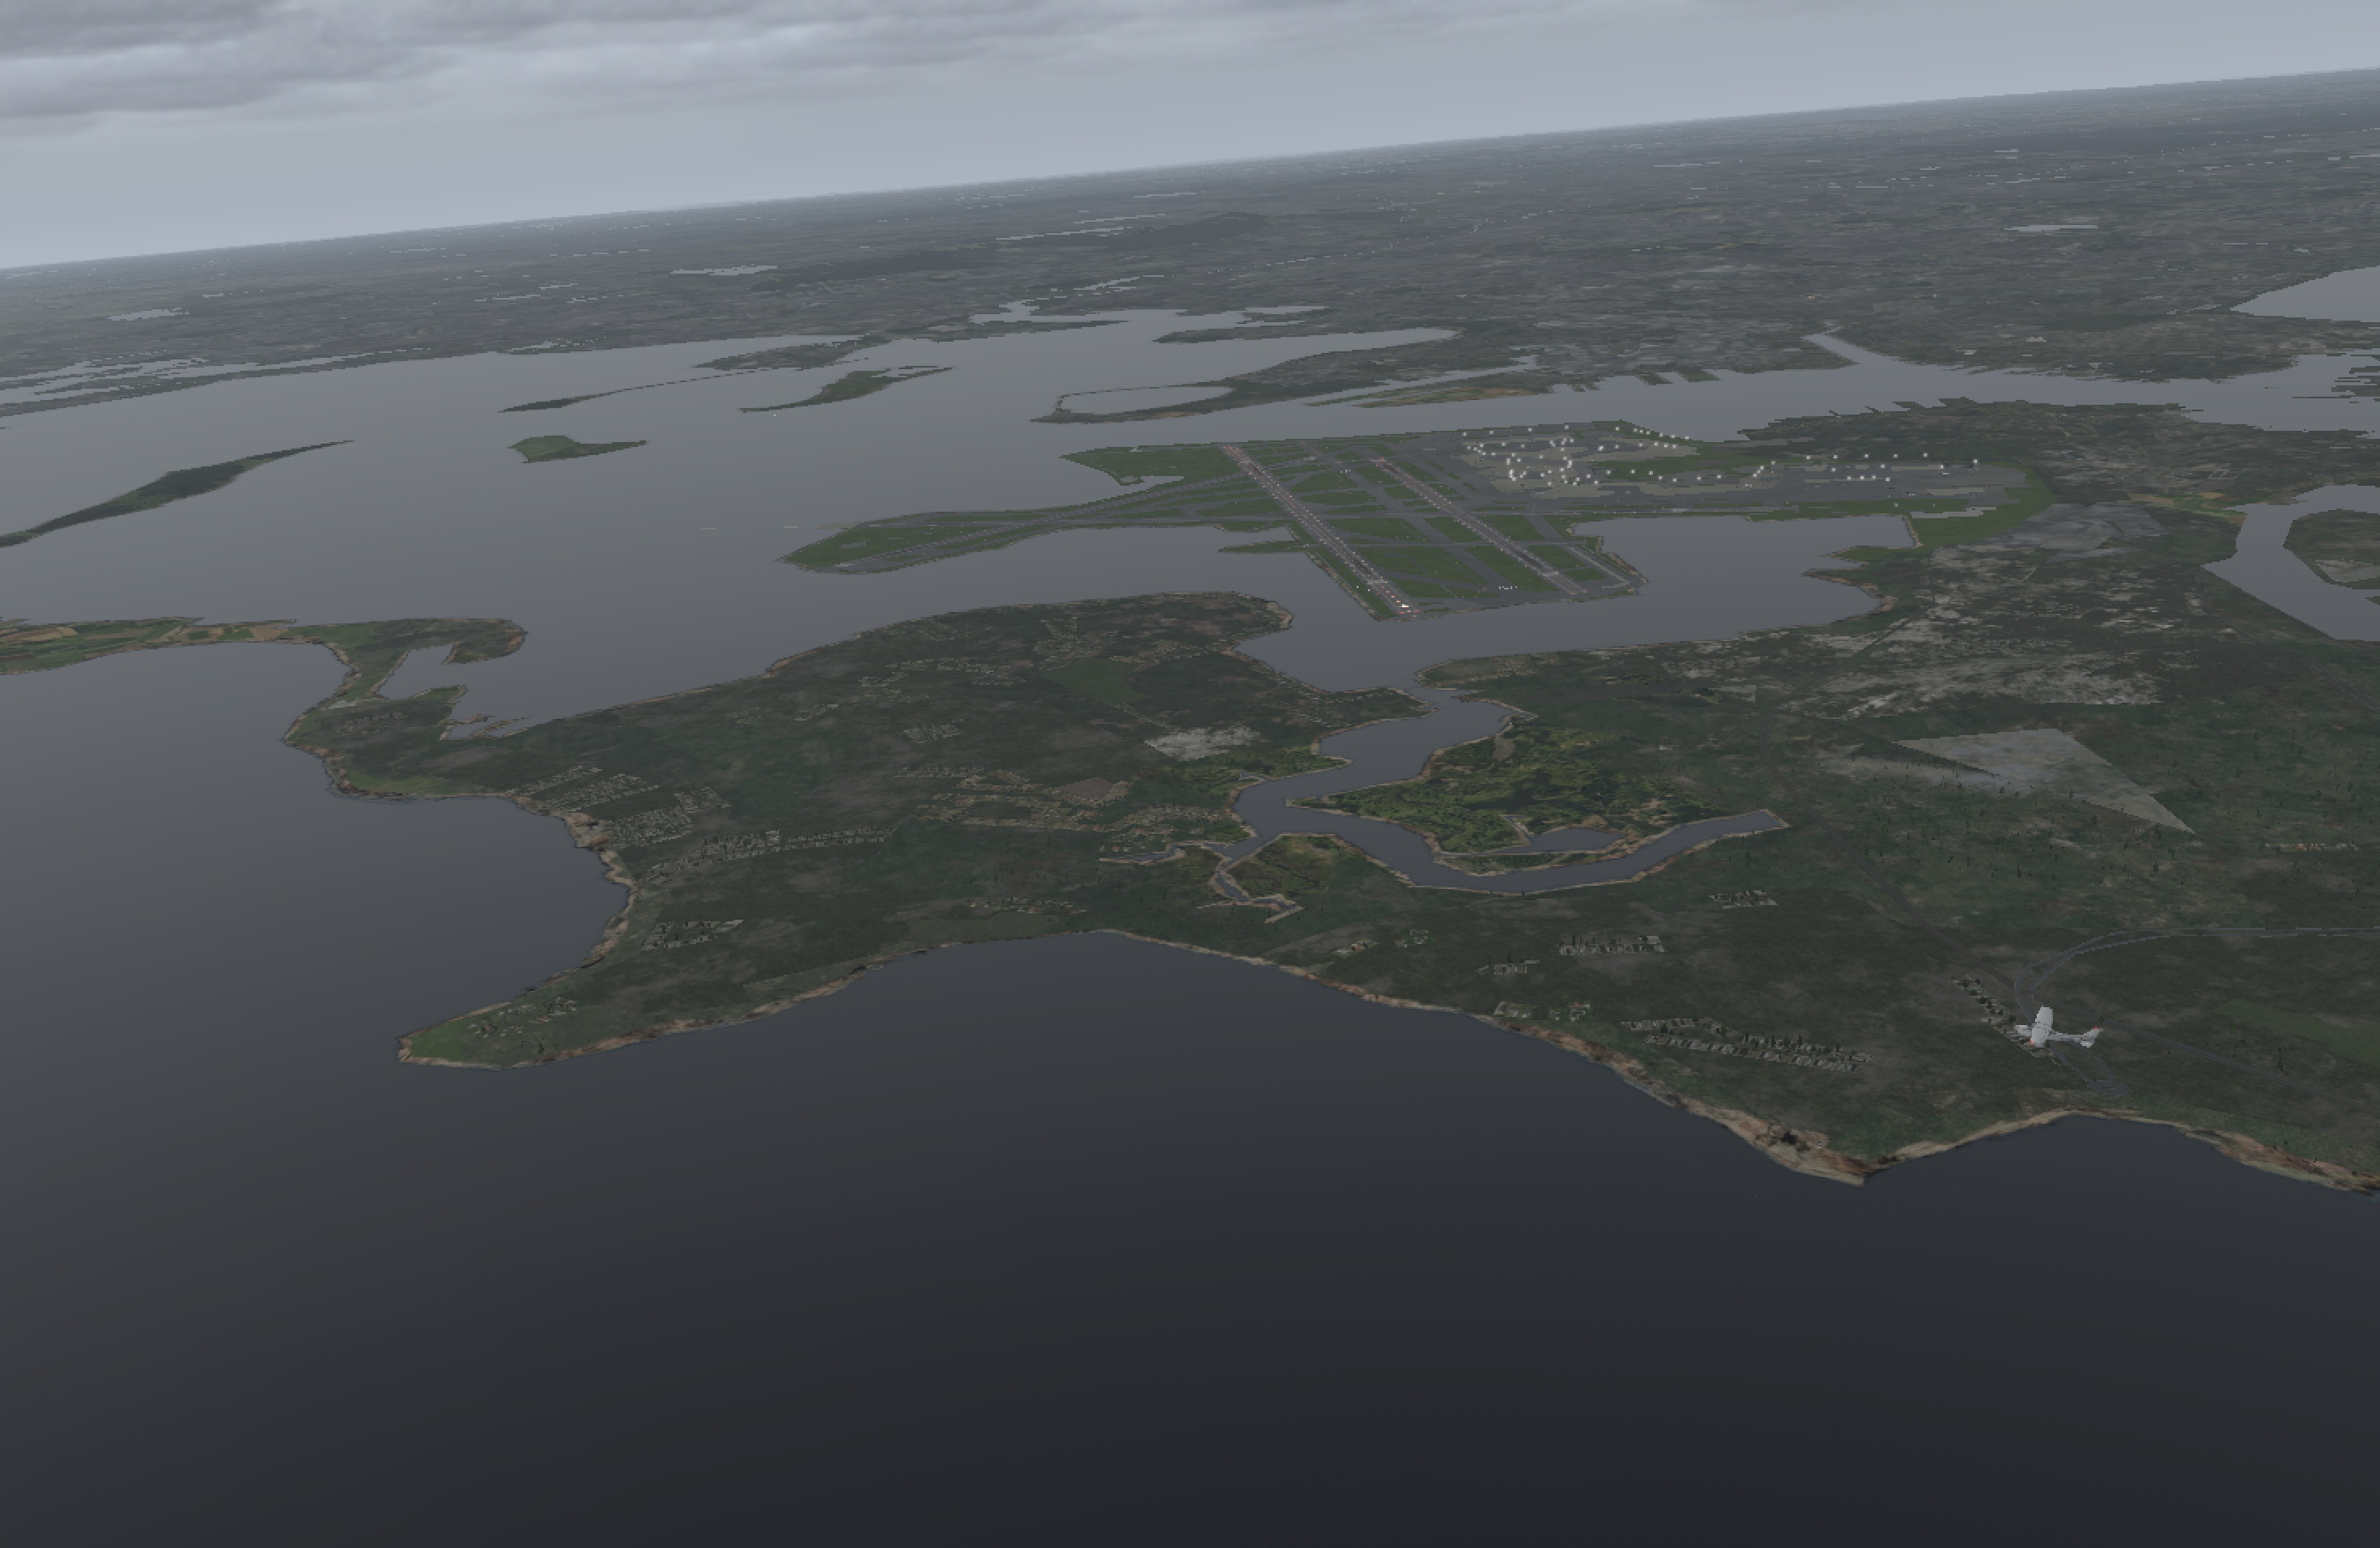aircraft: (2002, 1017, 2073, 1045)
